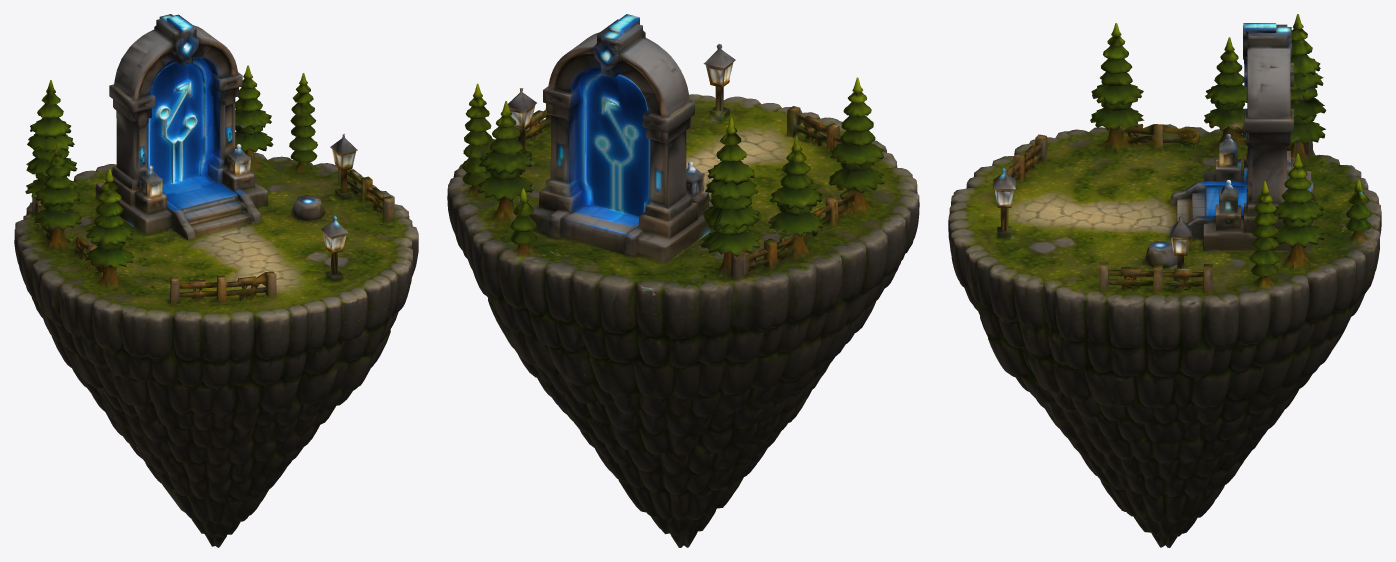
Rendered from github.glb.
3 renders of one model, left to right at view 1: azimuth 30°, elevation 25°; view 2: azimuth 150°, elevation 25°; view 3: azimuth 270°, elevation 25°, orthographic. The views are drawn at different scales.
Visible parts, largest first — view 1: node_0; view 2: node_0; view 3: node_0.
Boxes of the visible parts, x1,y1,x2,y2 form: node_0: (14, 14, 418, 547); node_0: (447, 14, 919, 547); node_0: (948, 14, 1381, 547).
Size of the model in its own units: 0.826 by 1.11 by 0.832.
Materials: 1 (1 with a texture image).
